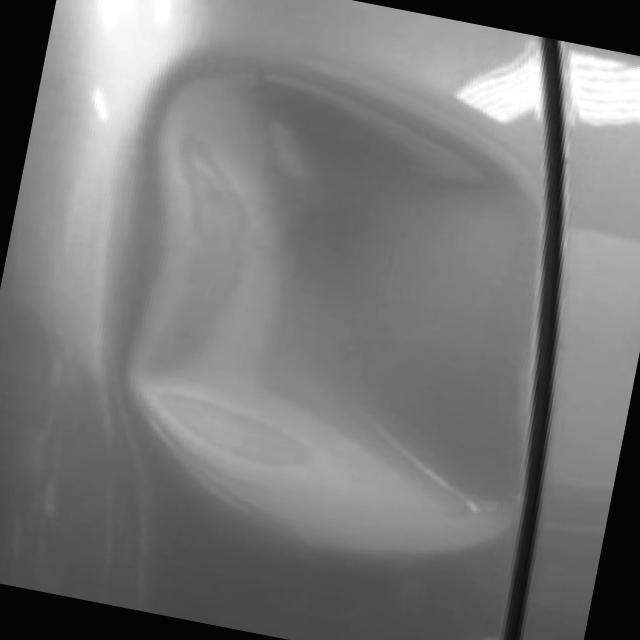dent: (83, 53, 595, 580)
